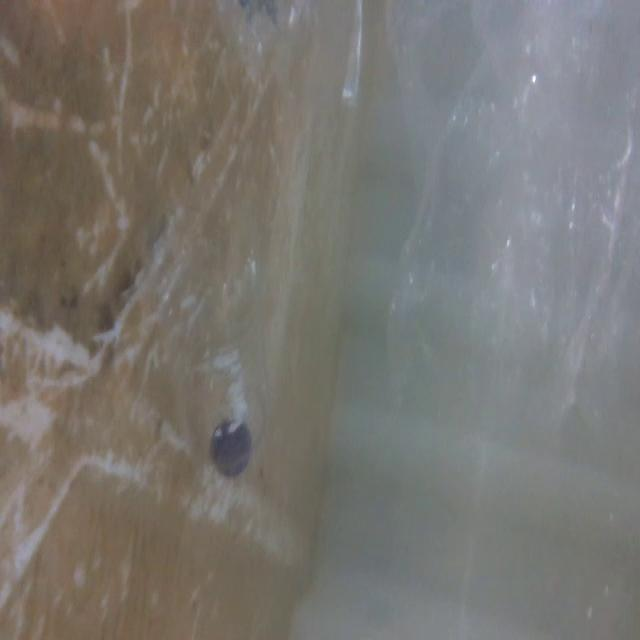plastic bags: (380, 0, 640, 437), (195, 0, 374, 143)
plastic bottle: (161, 164, 279, 509)
